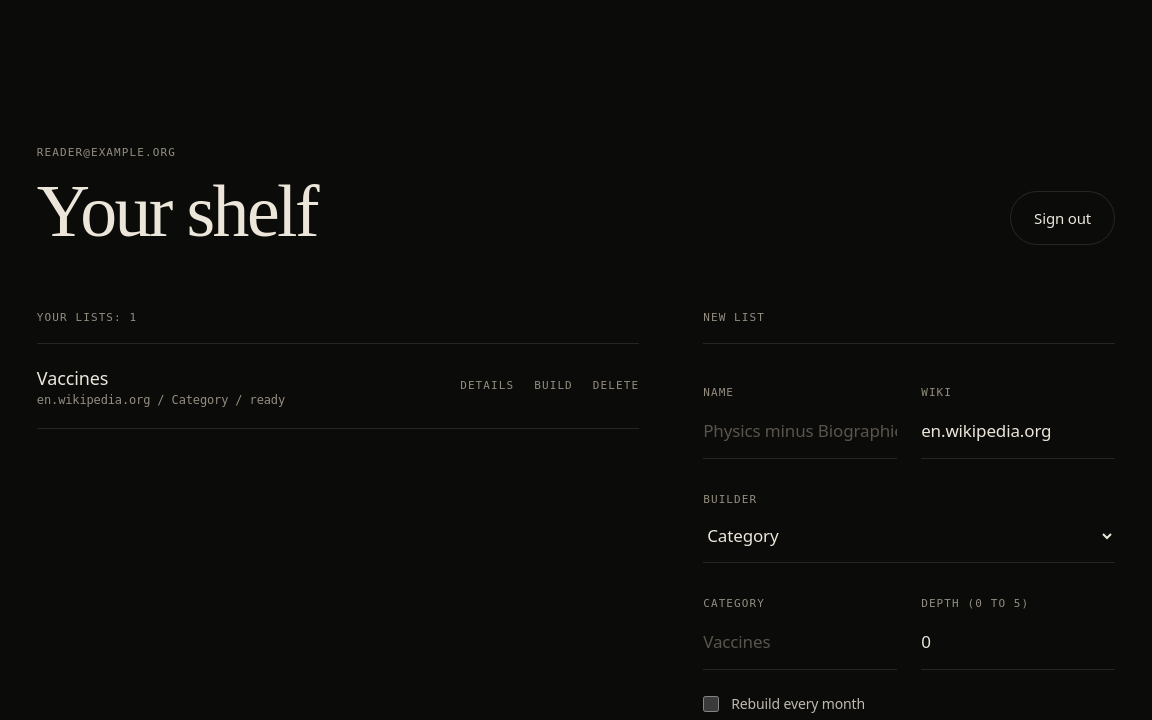
Test: AppPage › shows why a list could not be deleted
Click the button with aria-label "Delete Vaccines" at (616, 386), box 593,369 -> 639,403
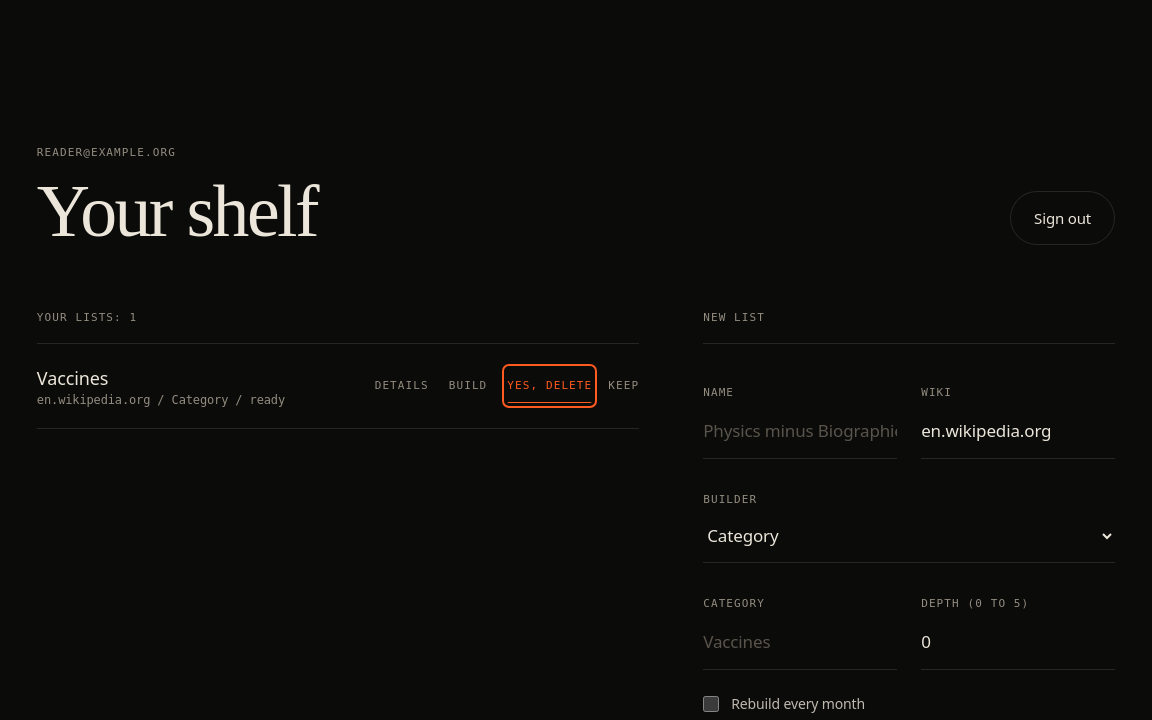
Click the button "Yes, delete" at (550, 386), box 507,369 -> 592,403
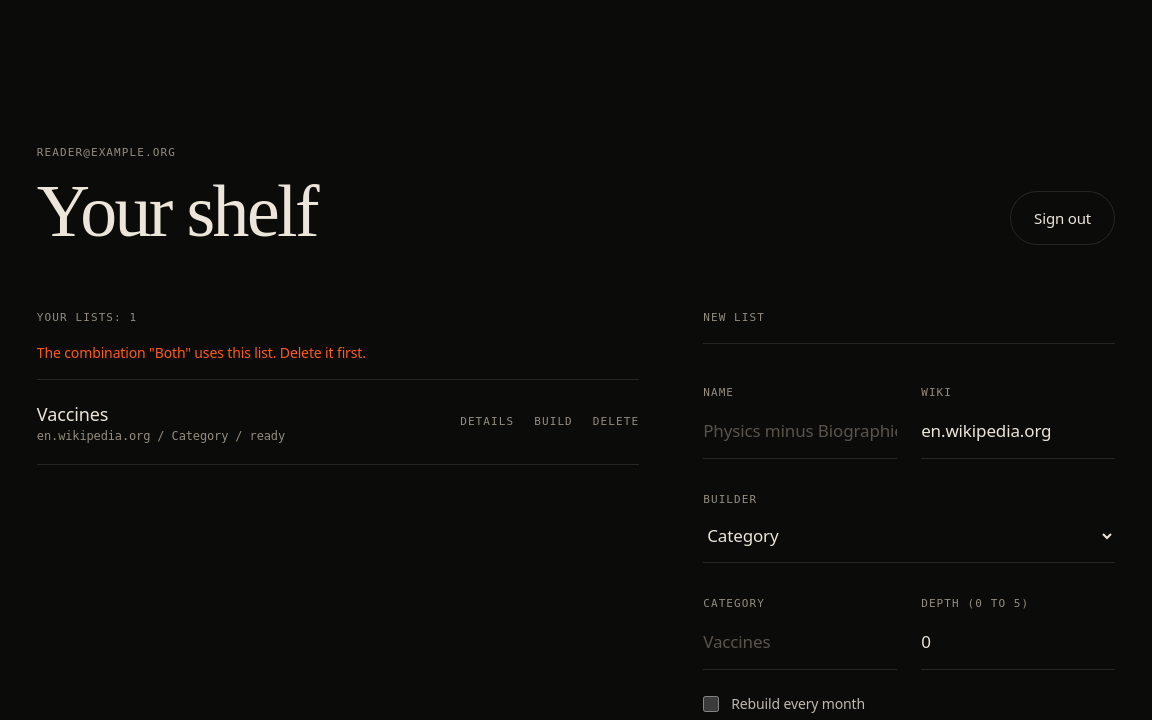
Expected: the heading "Vaccines" is shown, 37,402 -> 108,426
Now the message shows "uses this list", box 37,343 -> 366,362
